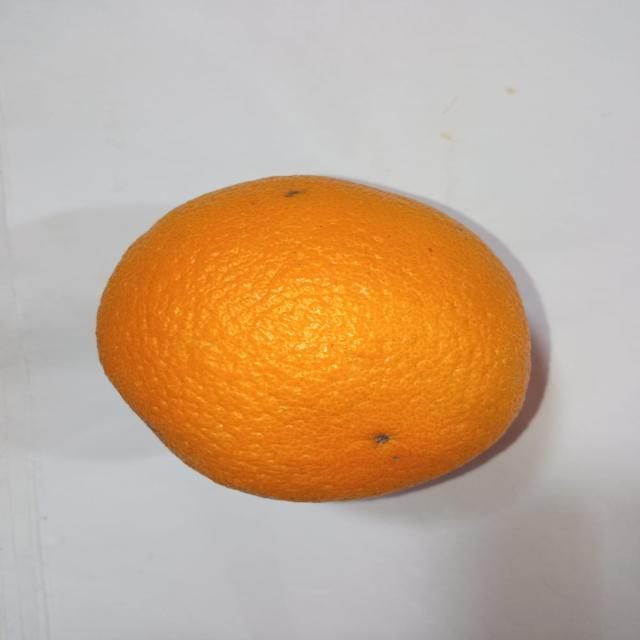fresh_orange: (94, 175, 530, 500)
